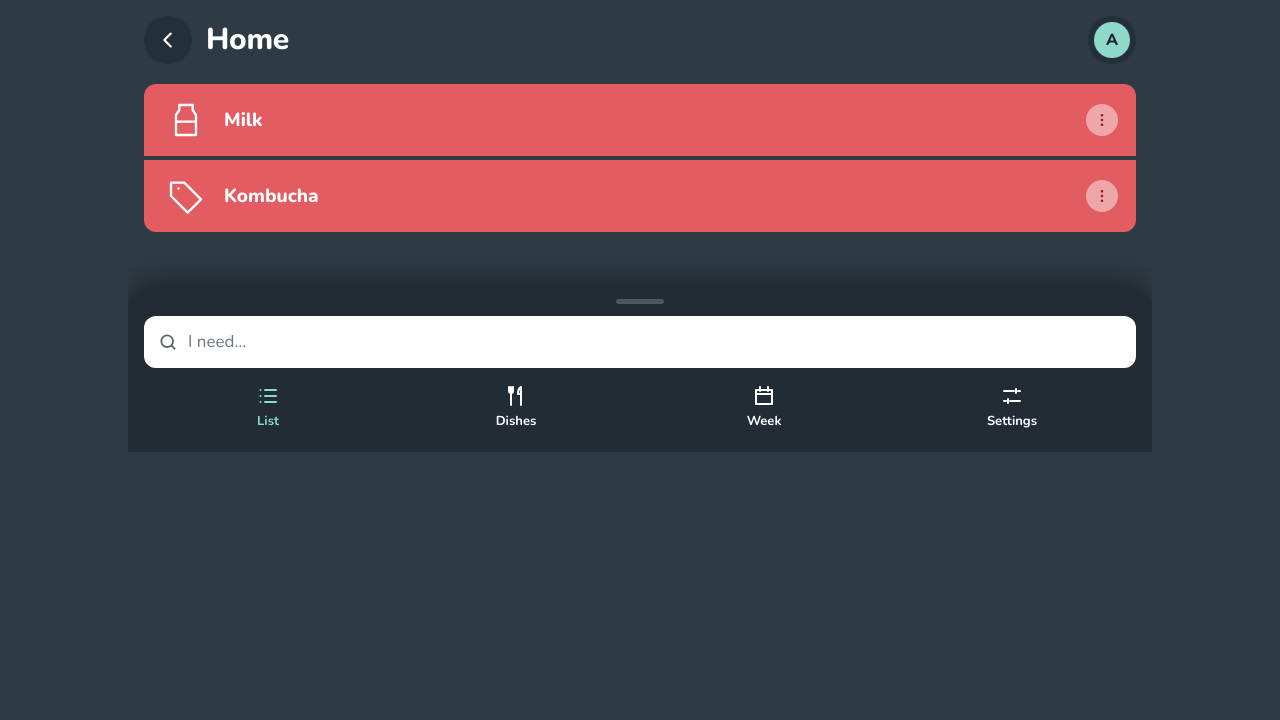
Test case: list item ⋮ menu › opens with the item, its kind and its section
Click the button named "More options for Kombucha" at (1102, 196), box [1076, 170, 1128, 222]
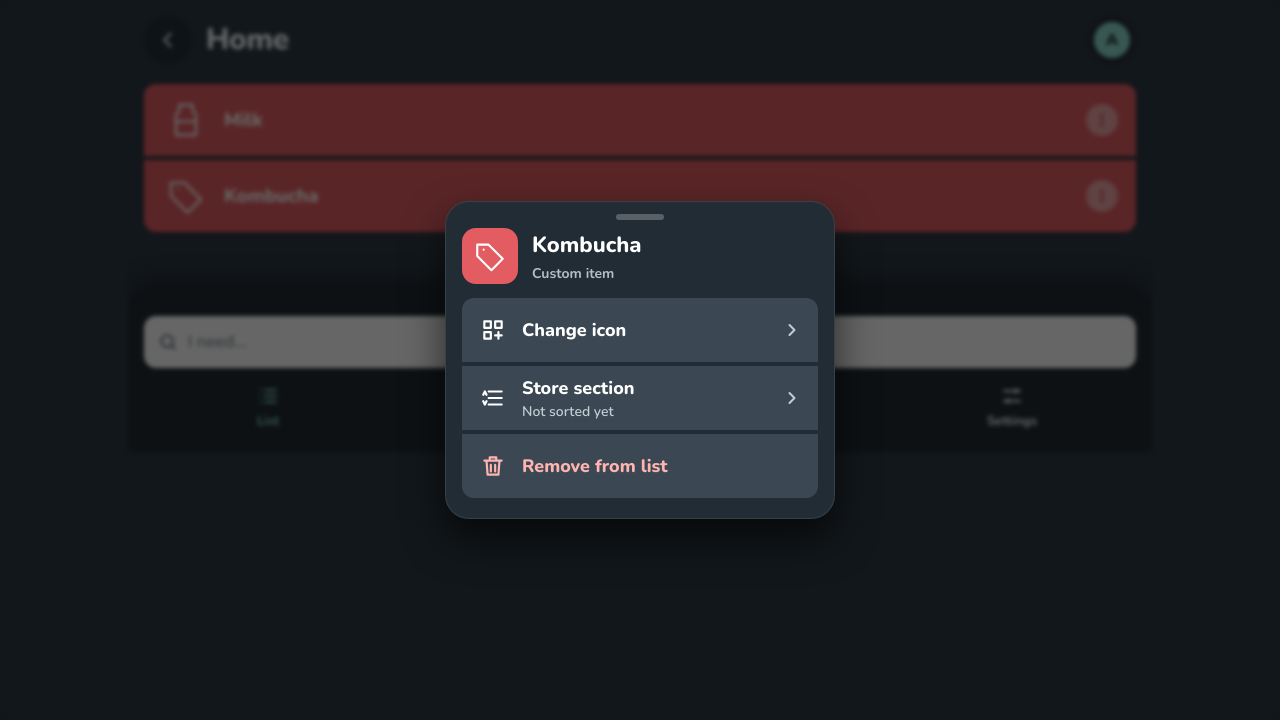
expect the element with test id "item-menu" shows "Kombucha": met, box [532, 230, 642, 260]
expect the element with test id "item-menu" shows "Custom item": met, box [532, 264, 614, 282]
expect the element with test id "item-menu" shows "Not sorted yet": met, box [462, 366, 818, 430]
